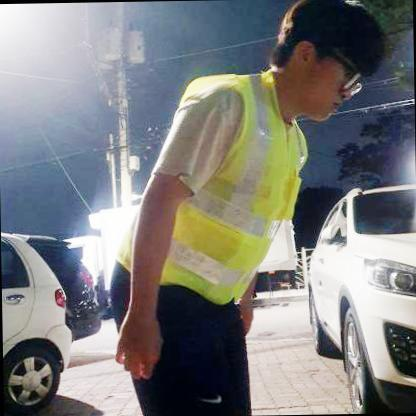no-helmet: (260, 0, 387, 78)
vest: (90, 52, 318, 315)
